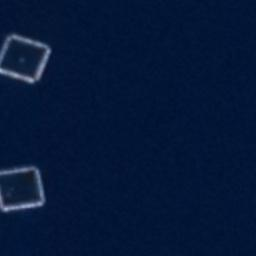square_solid: (1, 29, 55, 91), (1, 161, 49, 217)
